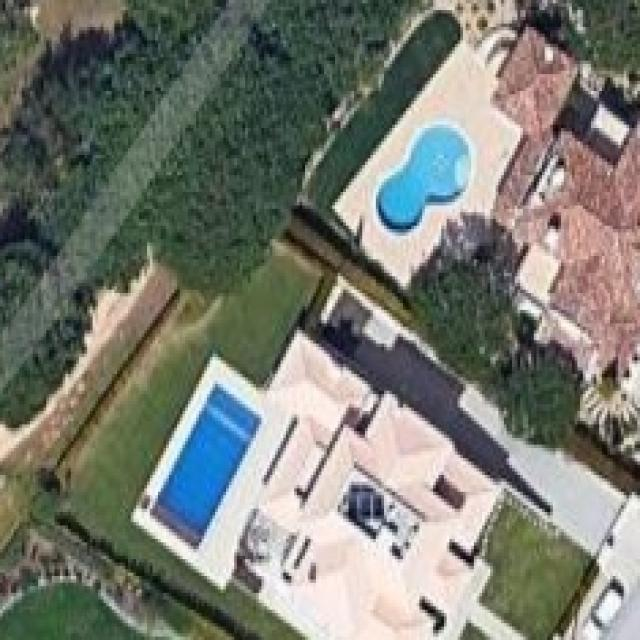pool: (127, 360, 285, 565), (339, 92, 508, 263)
